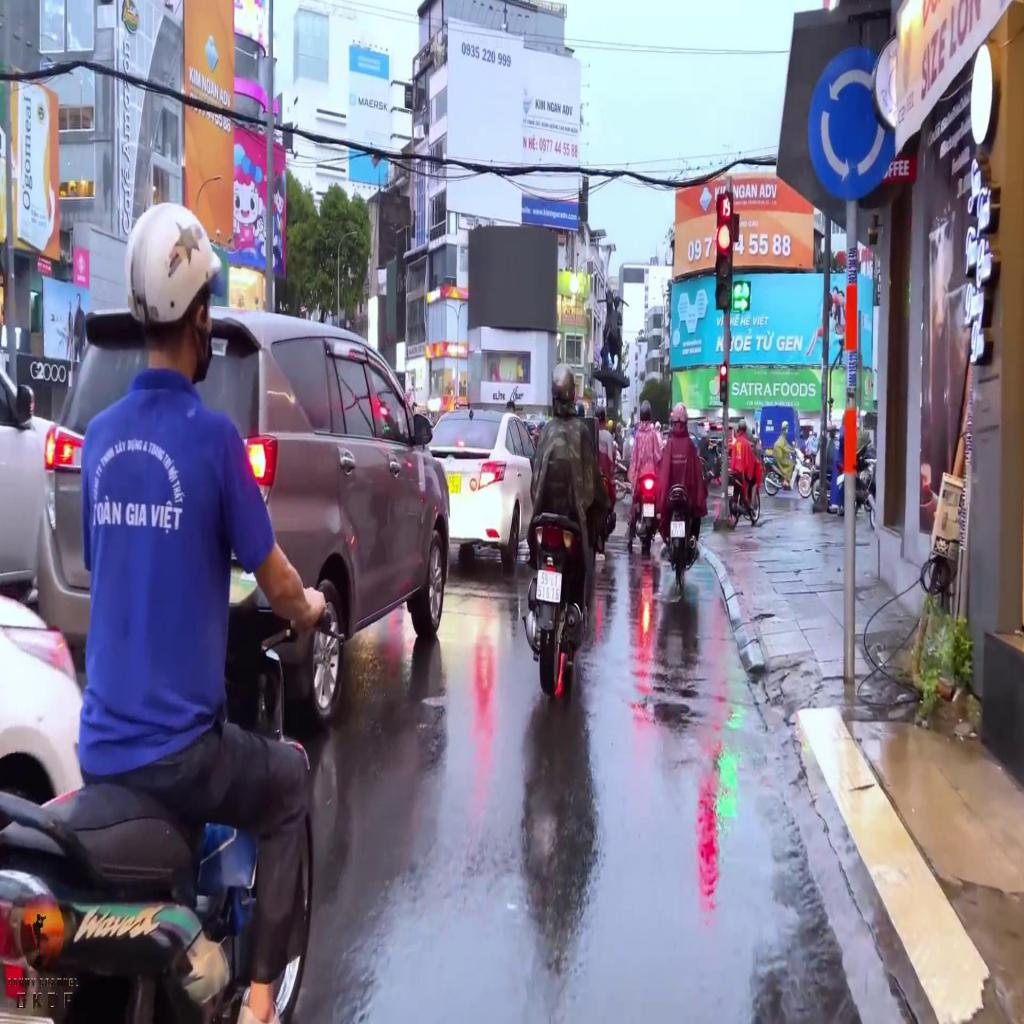noi_giao_nhau_chay_theo_vong: (807, 44, 896, 203)
